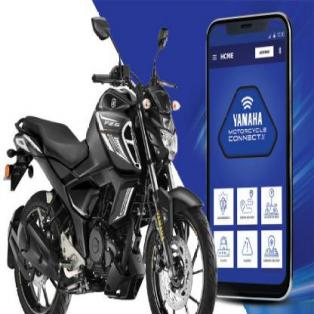Motocicleta: (3, 13, 219, 313)
